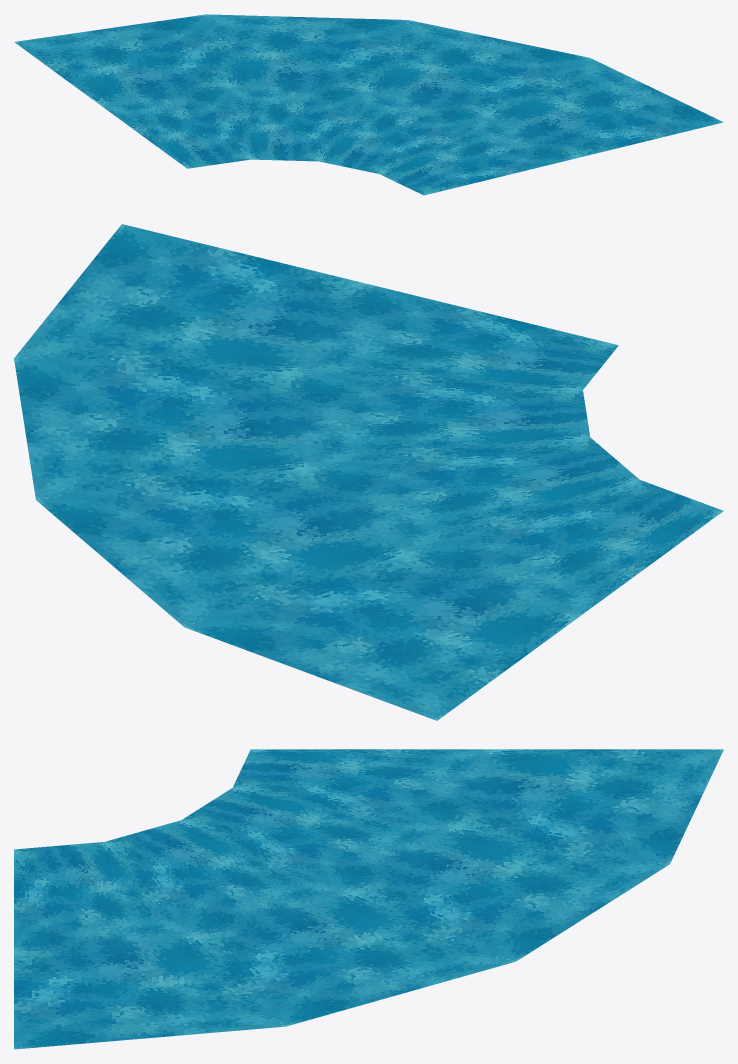
File: Terrain_Water_River_Curve_CW_3x3.glb
The picture shows the model from 3 angles, top to bottom: view 1: azimuth 30°, elevation 25°; view 2: azimuth 150°, elevation 25°; view 3: azimuth 270°, elevation 25°; orthographic projection. The views are drawn at different scales.
Visible parts, largest first — view 1: Terrain_Water_River_Curve_CW_3x3; view 2: Terrain_Water_River_Curve_CW_3x3; view 3: Terrain_Water_River_Curve_CW_3x3.
Part boxes in pixels (bbox=[...]): Terrain_Water_River_Curve_CW_3x3: bbox=[14, 14, 723, 195]; Terrain_Water_River_Curve_CW_3x3: bbox=[14, 224, 723, 720]; Terrain_Water_River_Curve_CW_3x3: bbox=[14, 749, 723, 1049].
Bounding box in the file's own units: 300 × 2.52e-06 × 300.
1 material, 1 textured.
